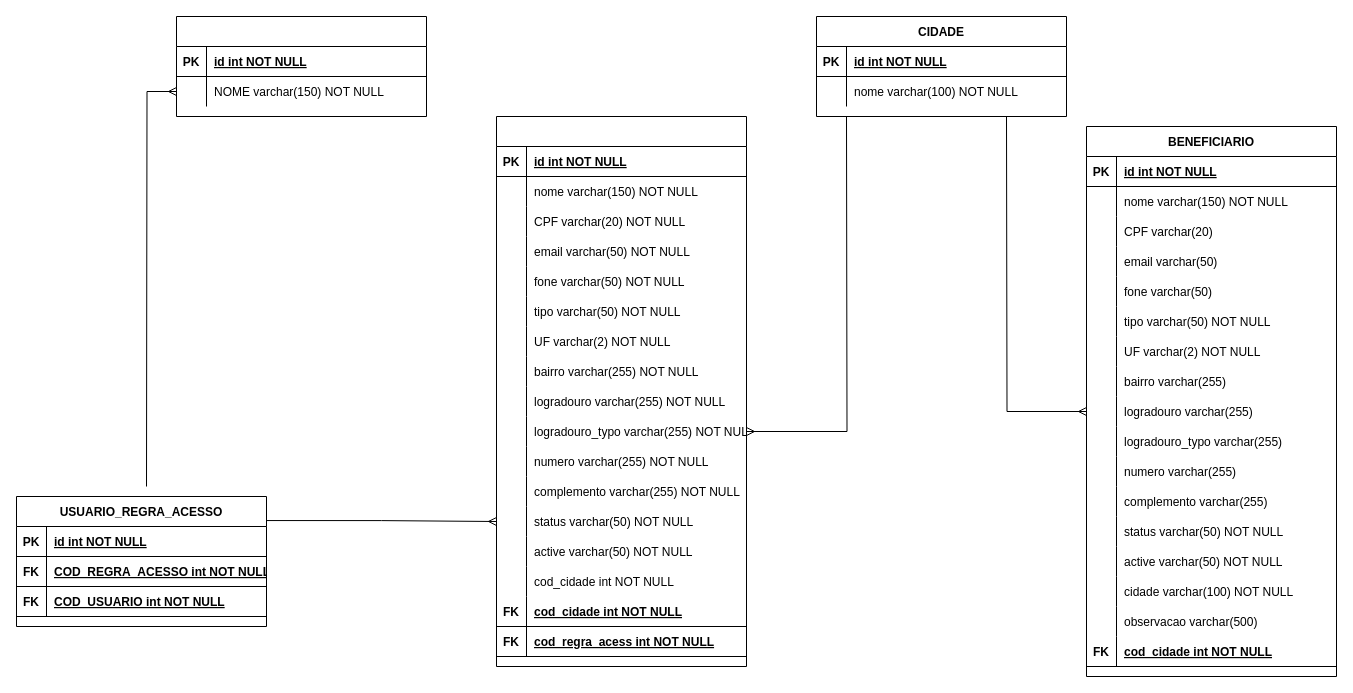
This 1353x693 diagram has some shape labels left out. Here are the shapes that lost their labels. From the top down, the box of each, then its label:
(176, 16, 426, 116): REGRA_ACESSO
(496, 116, 746, 666): USUARIO
